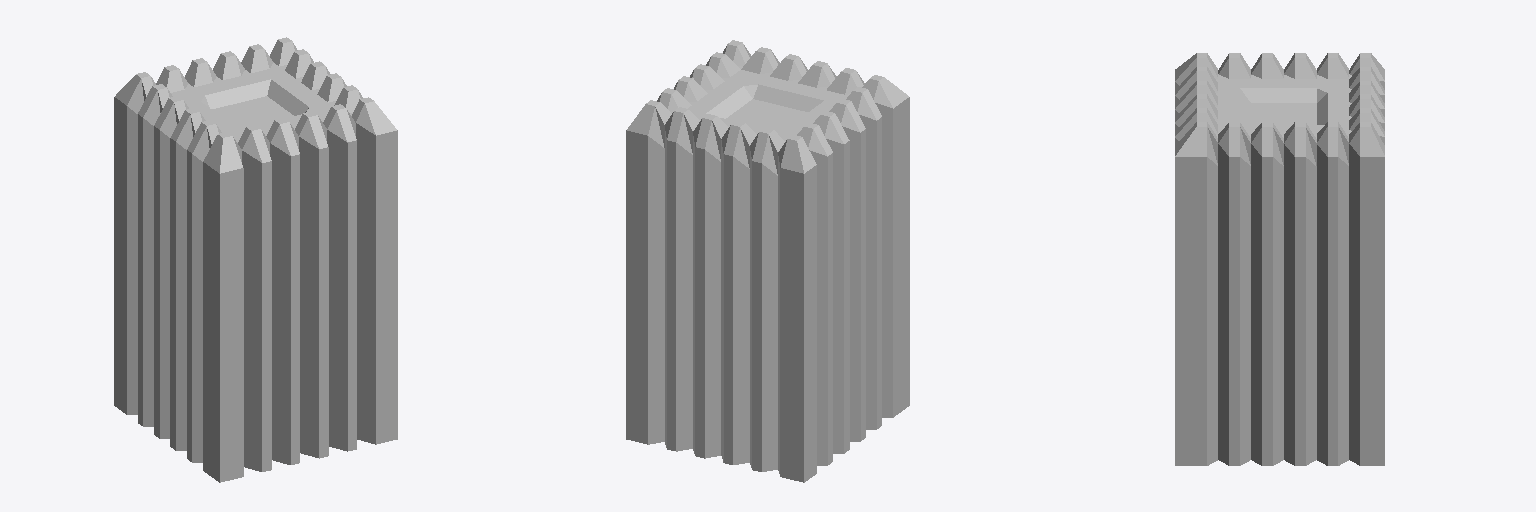
The model's file is WallTower.obj.
3 views of the same model, side by side, from view 1: azimuth 30°, elevation 25°; view 2: azimuth 150°, elevation 25°; view 3: azimuth 270°, elevation 25° (orthographic).
Visible parts, largest first — view 1: Cube; view 2: Cube; view 3: Cube.
Part boxes in pixels (x1,y1,x2,y2): Cube: (114, 37, 397, 482); Cube: (626, 40, 909, 482); Cube: (1175, 53, 1384, 465).
Bounding box in the file's own units: 11.77 × 21.06 × 12.06.